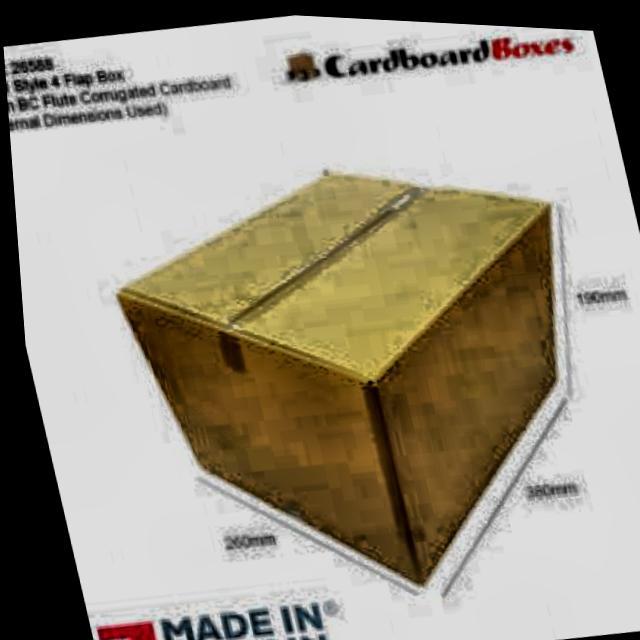Cardbox: (76, 106, 640, 640)
